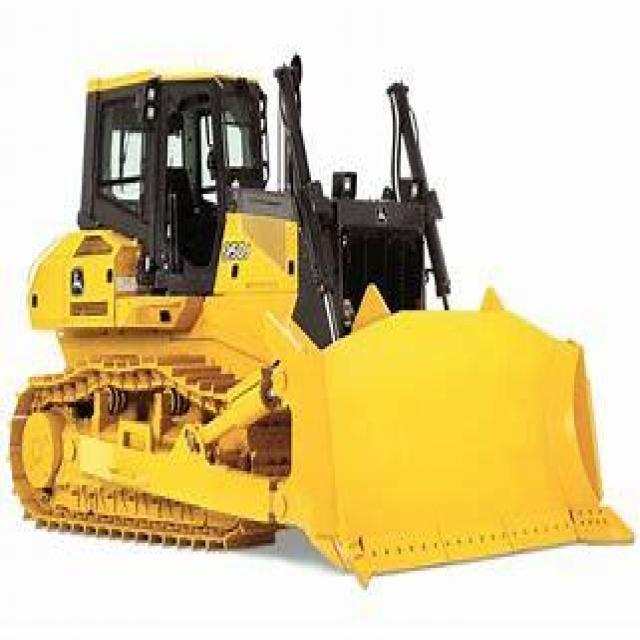Bulldozer: (4, 53, 638, 587)
